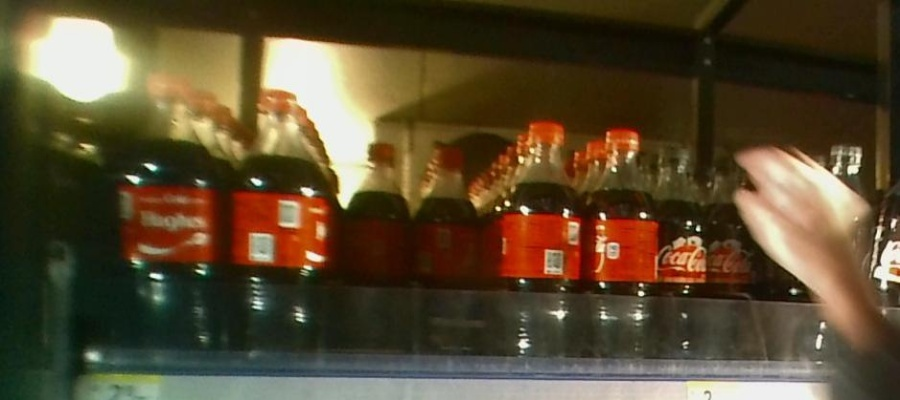bottle: (113, 71, 225, 359), (228, 70, 329, 361), (501, 109, 583, 366), (583, 111, 661, 374), (413, 136, 482, 336), (344, 135, 410, 329), (662, 142, 707, 354), (710, 153, 753, 358)
